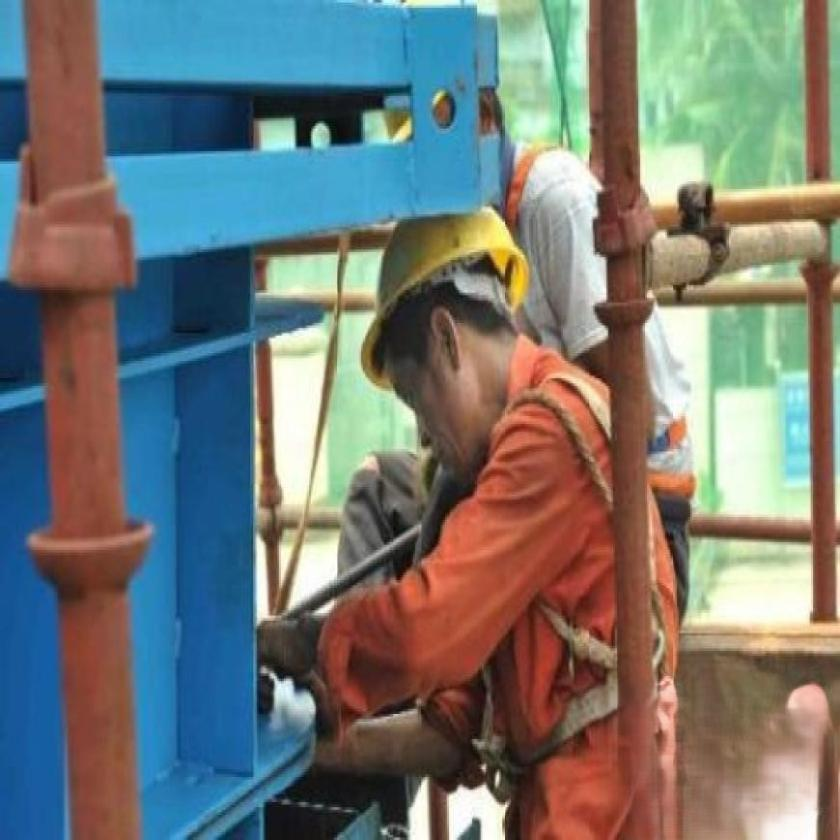Con_casco: (360, 192, 532, 488)
